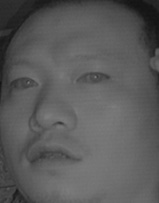eye: (75, 65, 110, 89), (8, 71, 41, 94)
mouth: (23, 137, 86, 177)
